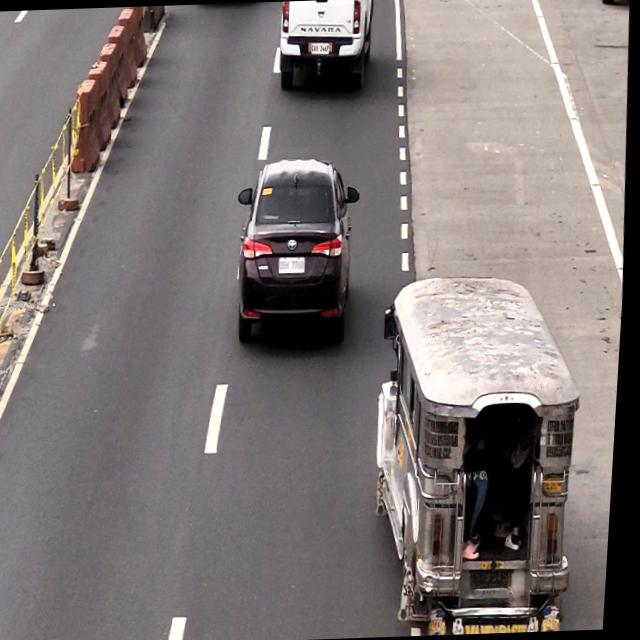Car: (232, 168, 358, 352), (277, 0, 377, 92)
Jeep: (375, 271, 584, 637)
License-Plate: (278, 255, 309, 278), (311, 38, 332, 58)
